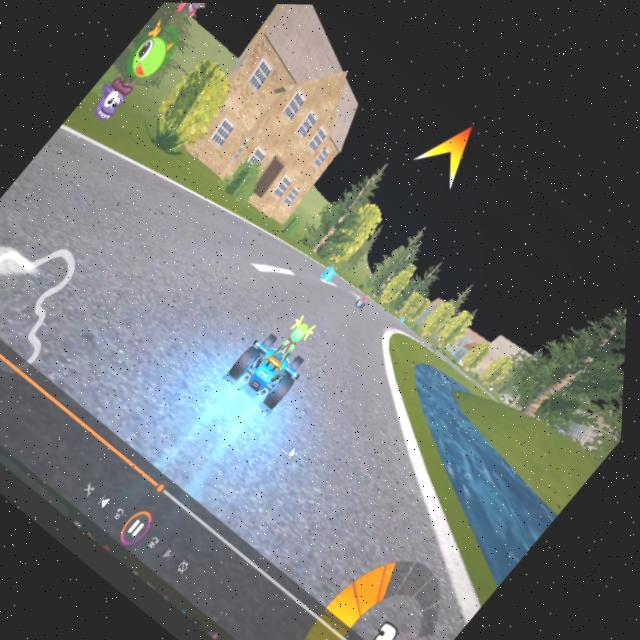bonus: (318, 261, 344, 287)
enemy_kart: (352, 291, 374, 314)
player_kart: (216, 295, 343, 427)
track: (55, 170, 307, 419)
